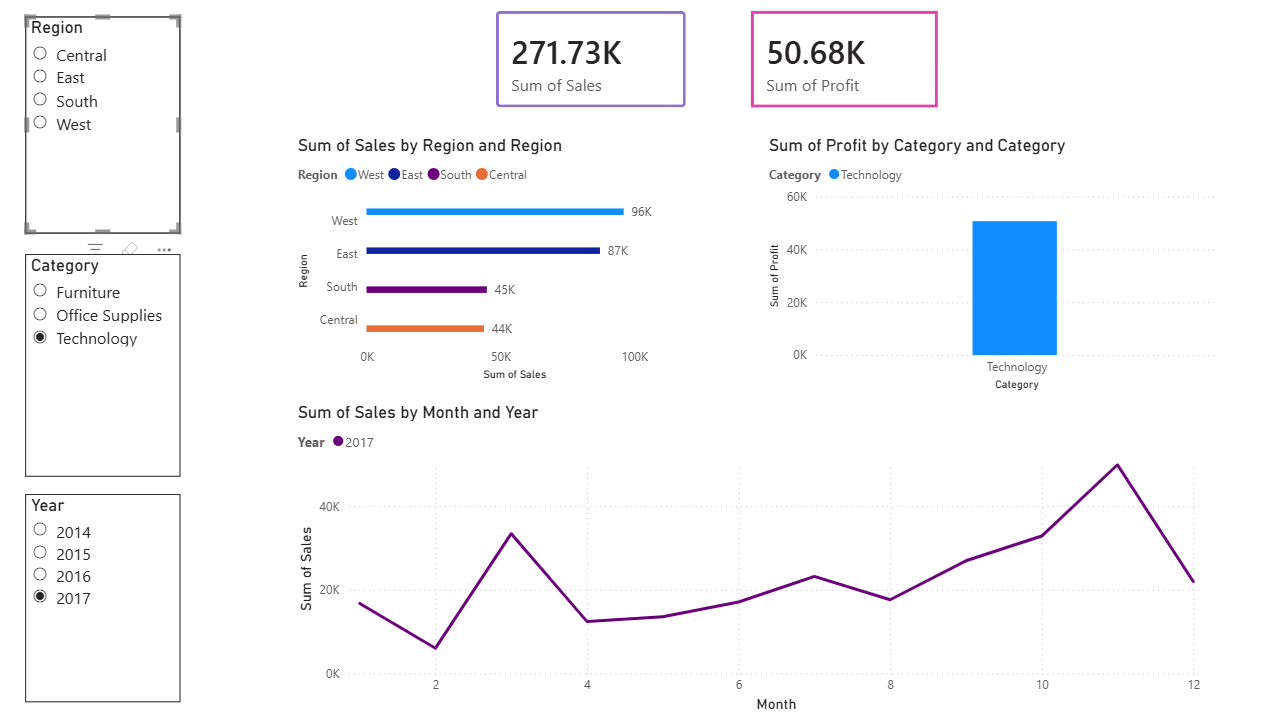

The page's visual inventory and layout, read from the dashboard file:
{"tool":"powerbi","page":{"name":"Page 1","canvas":[1280,720],"ordinal":0},"visuals":[{"type":"cardVisual","fields":{"Data":["Sum(Cleaned_Superstore_Data.Profit)"]},"box":[731.2,0,220,130],"z":0},{"type":"cardVisual","fields":{"Data":["Sum(Cleaned_Superstore_Data.Sales)"]},"box":[477.5,0,223.8,130],"z":1000},{"type":"clusteredColumnChart","fields":{"Category":["Cleaned_Superstore_Data.Category"],"Y":["Sum(Cleaned_Superstore_Data.Profit)"],"Series":["Cleaned_Superstore_Data.Category"]},"box":[761.2,140,456.2,258.8],"z":2000},{"type":"clusteredBarChart","fields":{"Category":["Cleaned_Superstore_Data.Region"],"Y":["Sum(Cleaned_Superstore_Data.Sales)"],"Series":["Cleaned_Superstore_Data.Region"]},"box":[292.5,140,387.5,248.8],"z":3000},{"type":"lineChart","fields":{"Category":["Cleaned_Superstore_Data.Month"],"Y":["Sum(Cleaned_Superstore_Data.Sales)"],"Series":["Cleaned_Superstore_Data.Year"]},"box":[292.9,405.7,911.4,314.3],"z":4000},{"type":"listSlicer","fields":{"Values":["Cleaned_Superstore_Data.Region"]},"box":[25.7,22.9,154.3,215.7],"z":5000},{"type":"listSlicer","fields":{"Values":["Cleaned_Superstore_Data.Category"]},"box":[25.7,258.6,154.3,221.4],"z":6000},{"type":"listSlicer","fields":{"Values":["Cleaned_Superstore_Data.Year"]},"box":[25.7,497.1,154.3,207.1],"z":7000}]}

Visuals, with their boxes in screenshot pixels (x1, y1, x2, y2), scaled from the page's 1280x720 canvas onto the 1284x715 screenshot:
cardVisual - Sum(Cleaned_Superstore_Data.Profit): Rect(733, 0, 954, 129)
cardVisual - Sum(Cleaned_Superstore_Data.Sales): Rect(479, 0, 703, 129)
clusteredColumnChart - Cleaned_Superstore_Data.Category x Sum(Cleaned_Superstore_Data.Profit): Rect(764, 139, 1221, 396)
clusteredBarChart - Cleaned_Superstore_Data.Region x Sum(Cleaned_Superstore_Data.Sales): Rect(293, 139, 682, 386)
lineChart - Cleaned_Superstore_Data.Month x Sum(Cleaned_Superstore_Data.Sales): Rect(294, 403, 1208, 714)
listSlicer - Cleaned_Superstore_Data.Region: Rect(26, 23, 181, 237)
listSlicer - Cleaned_Superstore_Data.Category: Rect(26, 257, 181, 477)
listSlicer - Cleaned_Superstore_Data.Year: Rect(26, 494, 181, 699)
